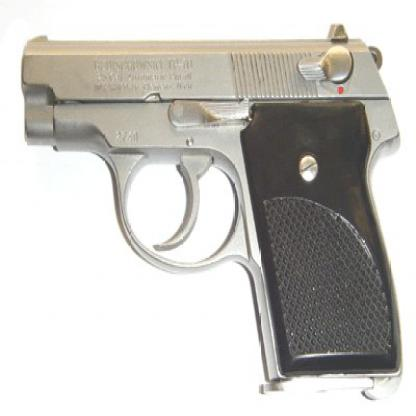Guns: (19, 20, 415, 402)
